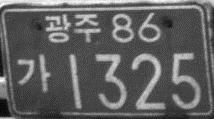1: (67, 51, 86, 109)
2: (131, 51, 167, 111)
3: (92, 52, 128, 110)
5: (169, 51, 202, 111)
6: (137, 11, 163, 43)
8: (110, 11, 135, 44)
가: (16, 52, 51, 91)
광주_O: (43, 12, 102, 43)
